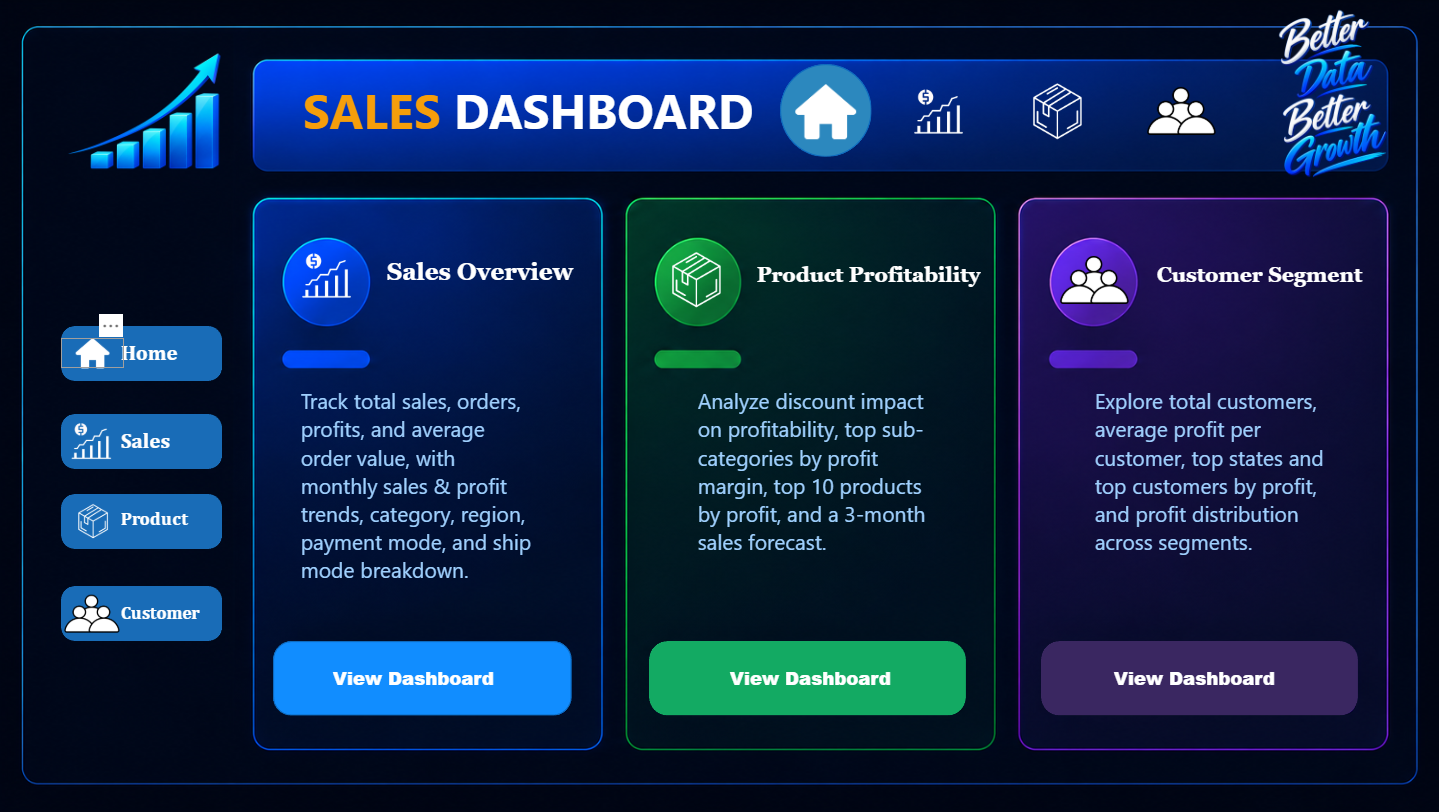

This screenshot's page, from the dashboard's own definition file:
{"tool":"powerbi","page":{"name":"Home","canvas":[1280,720],"ordinal":0},"visuals":[{"type":"image","box":[0,0,1280,720.1],"z":0},{"type":"textbox","box":[264.8,62.7,411.9,72.1],"z":1000},{"type":"textbox","box":[995.4,584.2,162.6,34.8],"z":2000},{"type":"image","box":[1079.1,0,200.9,162.6],"z":3000},{"type":"image","box":[243.9,204.4,95.2,79],"z":4000},{"type":"textbox","box":[339.2,223,187,41.8],"z":5000},{"type":"textbox","box":[667.9,227.7,213.7,41.8],"z":6000},{"type":"image","box":[561,207.9,116.2,81.3],"z":7000},{"type":"image","box":[881.6,58.1,116.2,82.5],"z":8000},{"type":"image","box":[933.9,217.2,76.7,61.6],"z":9000},{"type":"image","box":[1010.5,67.4,76.7,61.6],"z":10000},{"type":"shape","box":[693.4,56.9,81.3,82.5],"z":11000},{"type":"image","box":[696.9,74.3,74.3,48.8],"z":12000},{"type":"image","box":[786.4,59.2,95.2,79],"z":13000},{"type":"shape","box":[243.9,568,264.8,66.2],"z":14000},{"type":"textbox","box":[291.5,584.2,162.6,34.8],"z":15000},{"type":"shape","box":[577.3,568,281.1,66.2],"z":16000},{"type":"textbox","box":[643.5,584.2,162.6,34.8],"z":17000},{"type":"shape","box":[924.6,568,281.1,66.2],"z":18000},{"type":"textbox","box":[983.8,584.2,162.6,34.8],"z":19000},{"type":"textbox","box":[1022.1,227.7,213.7,41.8],"z":20000},{"type":"shape","box":[55.8,289.2,142.9,48.8],"z":21000},{"type":"textbox","box":[103.4,296.2,69.7,34.8],"z":22000},{"type":"image","box":[55.8,299.7,55.8,26.7],"z":23000},{"type":"shape","box":[55.8,437.9,142.9,48.8],"z":24000},{"type":"textbox","box":[103.4,444.9,72,34.8],"z":25000},{"type":"image","box":[36,436.7,95.2,49.9],"z":26000},{"type":"shape","box":[55.8,367,142.9,48.8],"z":27000},{"type":"image","box":[48.8,358.9,68.5,63.9],"z":28000},{"type":"textbox","box":[103.4,374,61.6,34.8],"z":29000},{"type":"shape","box":[55.8,519.2,142.9,48.8],"z":30000},{"type":"image","box":[48.8,519.2,68.5,48.8],"z":31000},{"type":"textbox","box":[103.4,528.5,83.6,30.2],"z":32000},{"type":"textbox","box":[263.7,338,218.4,220.7],"z":33000},{"type":"textbox","box":[615.6,338,218.4,220.7],"z":34000},{"type":"textbox","box":[967.5,338,218.4,220.7],"z":35000},{"type":"image","box":[46.5,27.9,162.6,144],"z":36000}]}

Visuals, with their boxes in screenshot pixels (x1, y1, x2, y2), scaled from the page's 1280x720 canvas onto the 1439x812 screenshot:
image: 0 0 1438 811
textbox: 298 71 761 152
textbox: 1119 659 1302 698
image: 1213 0 1438 183
image: 274 231 381 320
textbox: 381 251 592 299
textbox: 751 257 991 304
image: 631 234 761 326
image: 991 66 1122 159
image: 1050 245 1136 314
image: 1136 76 1222 145
shape: 780 64 871 157
image: 783 84 867 139
image: 884 67 991 156
shape: 274 641 572 715
textbox: 328 659 511 698
shape: 649 641 965 715
textbox: 723 659 906 698
shape: 1039 641 1355 715
textbox: 1106 659 1289 698
textbox: 1149 257 1389 304
shape: 63 326 223 381
textbox: 116 334 195 373
image: 63 338 125 368
shape: 63 494 223 549
textbox: 116 502 197 541
image: 40 493 147 549
shape: 63 414 223 469
image: 55 405 132 477
textbox: 116 422 185 461
shape: 63 586 223 641
image: 55 586 132 641
textbox: 116 596 210 630
textbox: 296 381 542 630
textbox: 692 381 938 630
textbox: 1088 381 1333 630
image: 52 31 235 194
